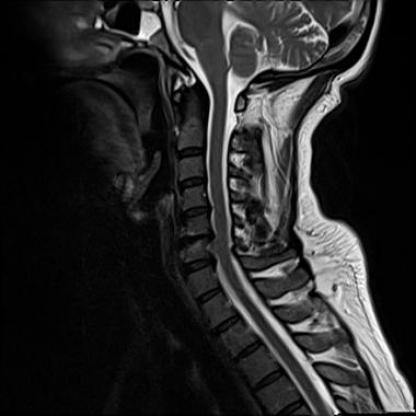Degenerative Disc Diseaserotation: (175, 230, 214, 253)
Disc Bulgerotation: (180, 258, 216, 277)
Disc Protrusionrotation: (175, 230, 213, 252), (180, 206, 210, 220)
